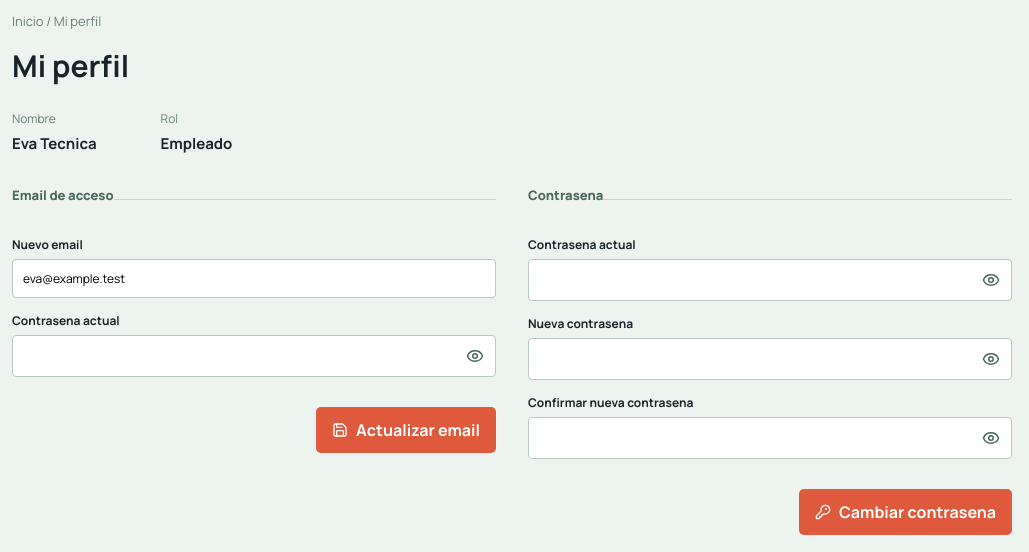
it: perfil propio › actualiza el email, persiste el nuevo token y vacia la contrasena
The width and height of the screenshot is (1029, 552).
Replace the text in the field named "Nuevo email" with "new@example.test". click: (254, 279)
box: [12,259,496,298]
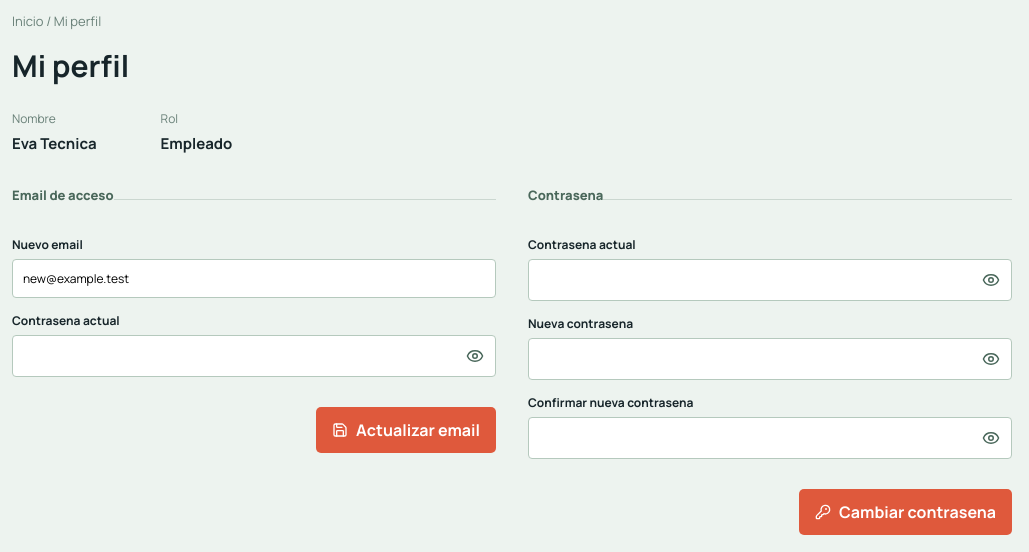
Type "current-password" into the password field named "Contrasena actual para email". click: (234, 356)
box: [13,338,455,375]
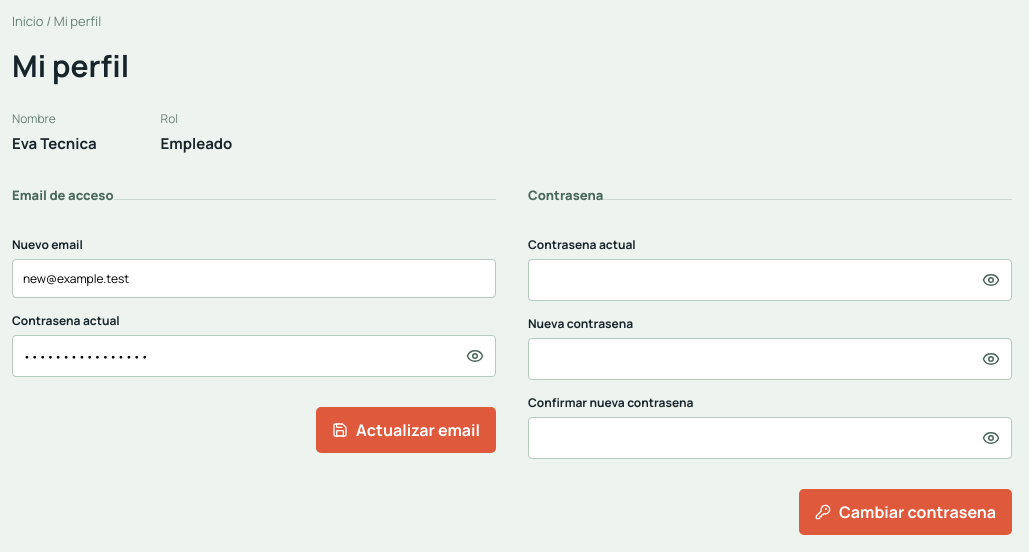
Submit the form with id "email-form", box [12,186,496,467]
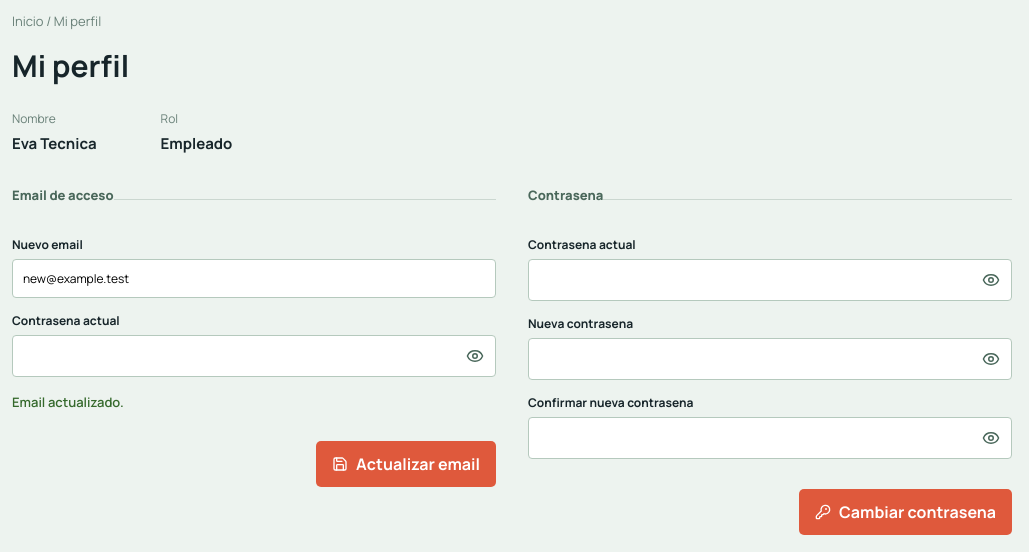
Now the password field named "Contrasena actual para email" is empty, box [13,338,455,375]
Now the message "Email actualizado." is shown, box [12,393,124,411]
